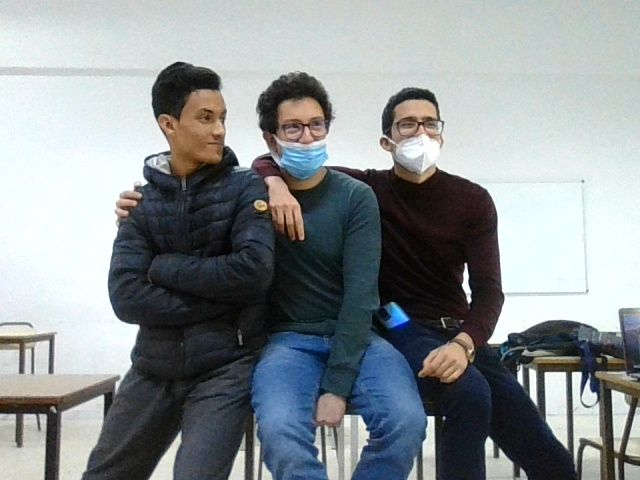mask_weared_incorrect: (356, 73, 451, 191), (252, 81, 343, 175)
without_mask: (152, 67, 241, 185)
